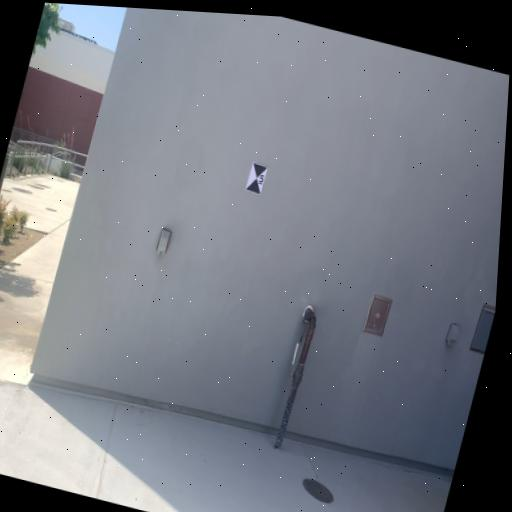target5: (245, 162, 269, 197)
